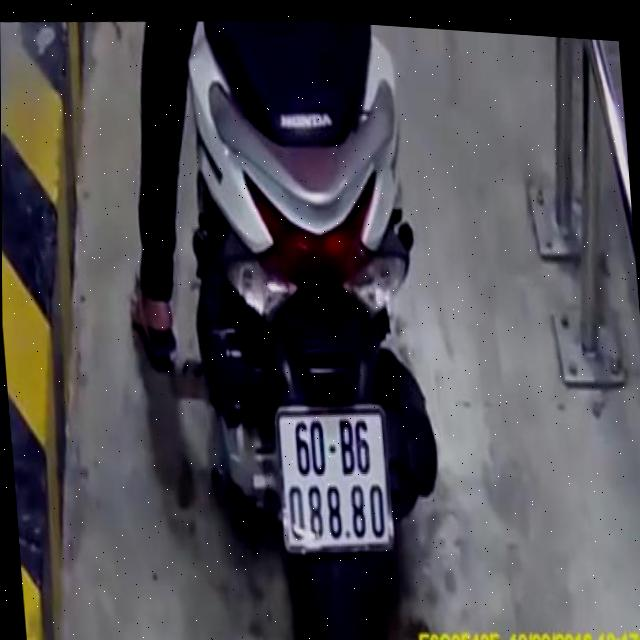motorcycle: (161, 15, 471, 640)
plate: (265, 394, 405, 564)
